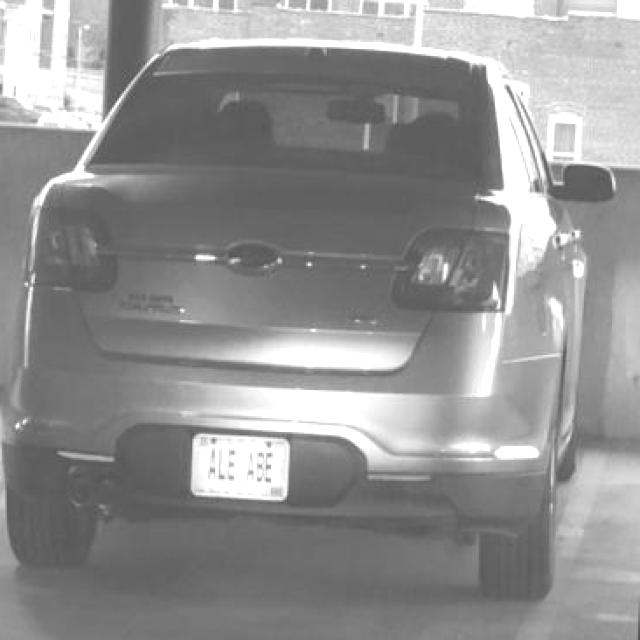licenseplate: (188, 431, 290, 500)
